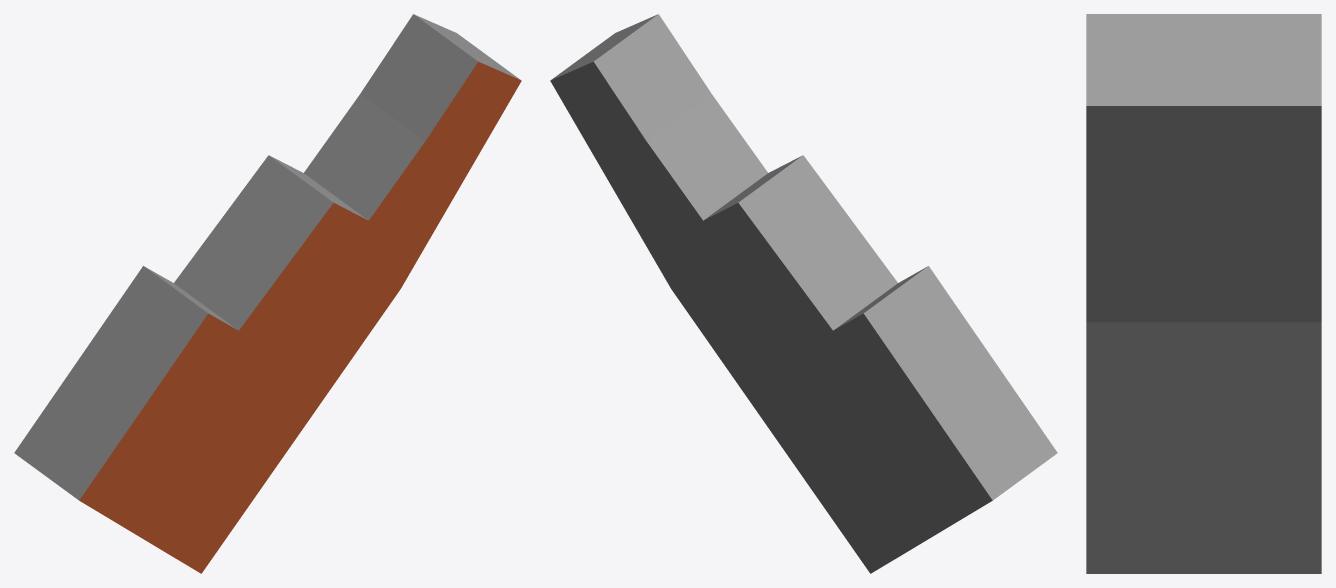
The model's file is construction_2680_assumed_A_Casa_h6m.obj.
The picture shows the model from 3 angles, left to right: view 1: azimuth 30°, elevation 25°; view 2: azimuth 150°, elevation 25°; view 3: azimuth 270°, elevation 25°; orthographic projection. The views are drawn at different scales.
Visible parts, largest first — view 1: construction_2680_assumed_A_Casa; view 2: construction_2680_assumed_A_Casa; view 3: construction_2680_assumed_A_Casa.
Part boxes in pixels (x1,y1,x2,y2): construction_2680_assumed_A_Casa: (14,14,521,573); construction_2680_assumed_A_Casa: (550,14,1057,573); construction_2680_assumed_A_Casa: (1086,14,1321,573).
Size of the model in its own units: 23.57 by 22.63 by 6.
